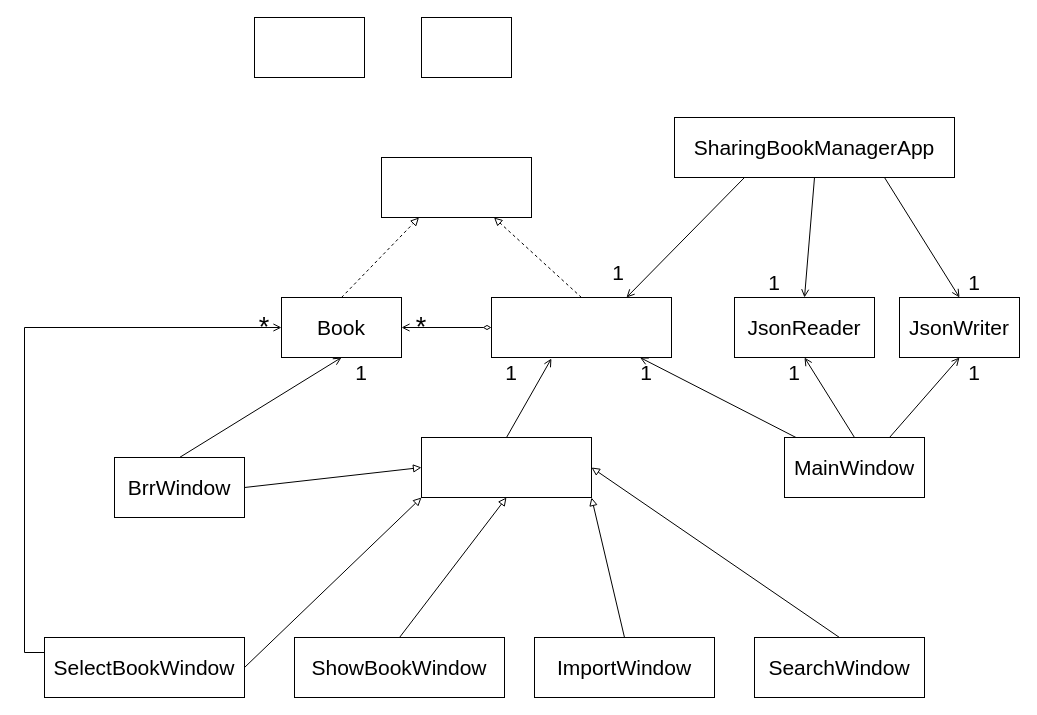
Some shapes in this 1037 by 715 pixel diagram are drawn without their labels. Each missing label, with the centre of its shape:
"<<abstract>> SubWindow" goes at point (506, 467).
"<<interface>> Writable" goes at point (456, 187).
"GUI" goes at point (466, 47).
"Main" goes at point (309, 47).
"SharingLibrary" goes at point (581, 327).
